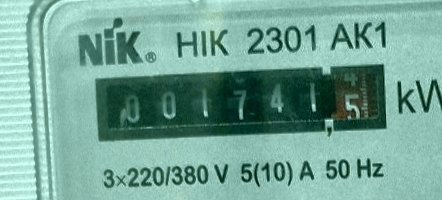0: (156, 87, 176, 121), (120, 91, 140, 124)
1: (192, 84, 210, 120), (302, 79, 318, 115)
4: (264, 79, 285, 115), (340, 69, 356, 88)
5: (339, 89, 359, 121)
7: (228, 86, 246, 121)
screen: (87, 57, 392, 147)
